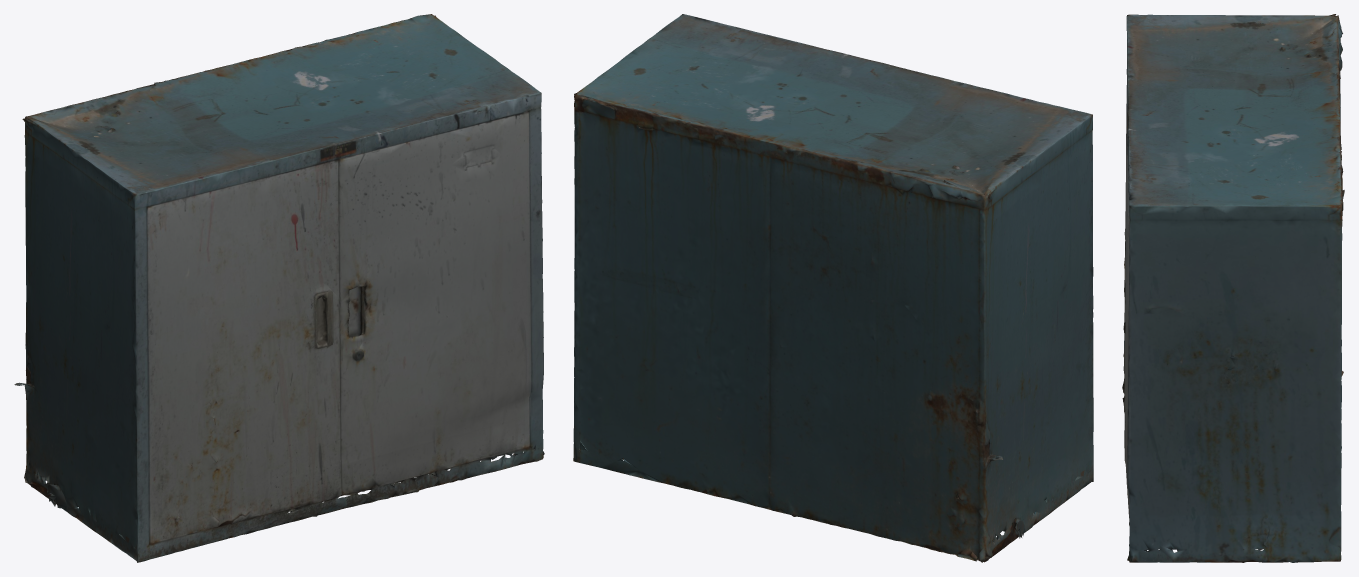
The model's file is MetalCupboard1.fbx.
3 views of the same model, side by side, from view 1: azimuth 30°, elevation 25°; view 2: azimuth 150°, elevation 25°; view 3: azimuth 270°, elevation 25° (orthographic). The views are drawn at different scales.
Visible parts, largest first — view 1: Old Tin Cabinet; view 2: Old Tin Cabinet; view 3: Old Tin Cabinet.
Part boxes in pixels (x1=…): Old Tin Cabinet: x1=14, y1=14, x2=544, y2=562; Old Tin Cabinet: x1=573, y1=14, x2=1093, y2=562; Old Tin Cabinet: x1=1122, y1=14, x2=1344, y2=562.
Bounding box in the file's own units: 80.25 × 66.66 × 37.25.
Materials: 1 (1 with a texture image).
